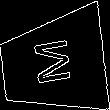M_W: (31, 37, 76, 90)
